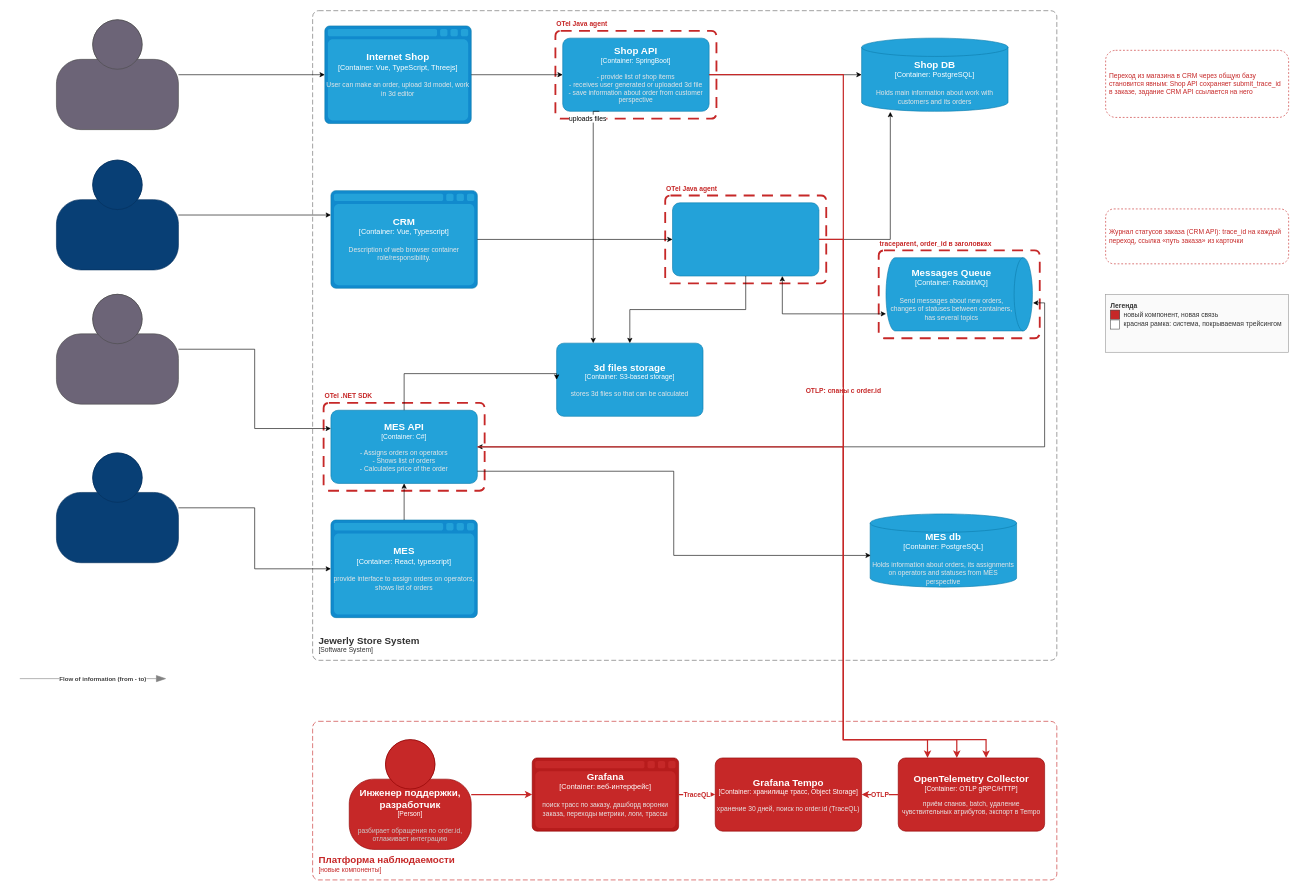
Image size: 1299x891. Some labels were removed from this diagram. Each missing label, with the centre of its shape:
API user [Person] Description of external person.: [117,349]
CRM API [Container: SpringBoot] Description of container role/responsibility.: [745,239]
Customer [Person] Description of external person.: [117,74]
Operator [Person] Takes order in work, manufactures jewerly: [117,507]
Seller [Person] Operates with order, confirms manufacturing for the user: [117,215]
